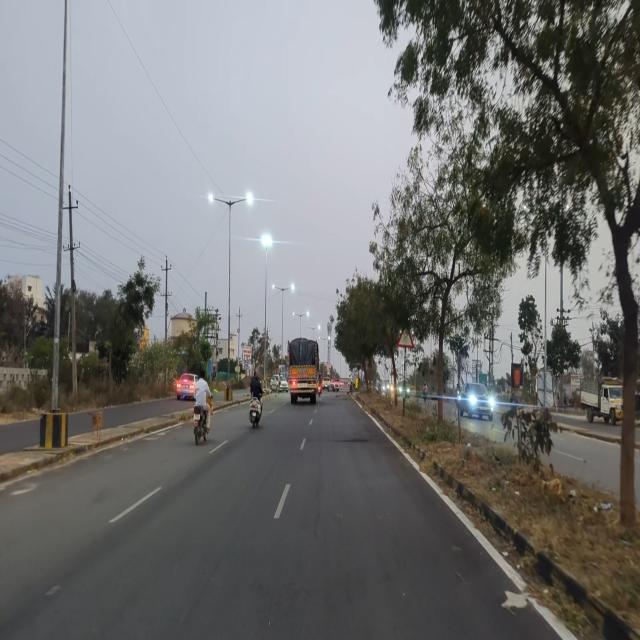bien_cam: (396, 325, 416, 349)
